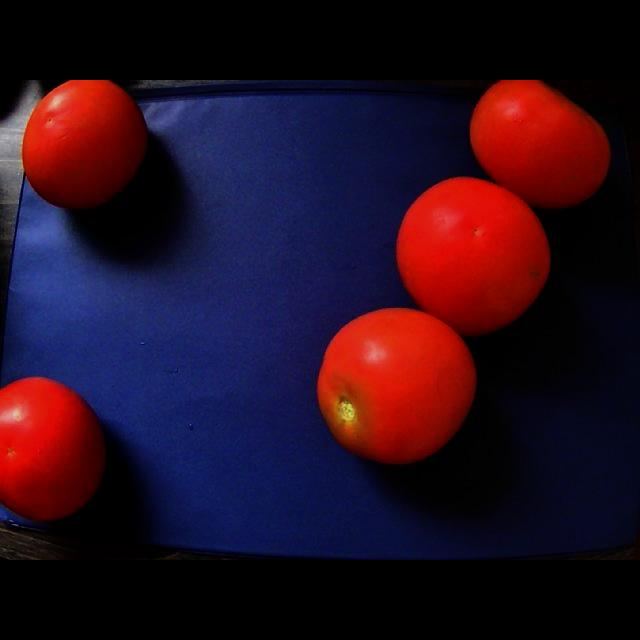tomate: (318, 308, 476, 463), (397, 177, 551, 335), (470, 80, 611, 209), (23, 80, 148, 209), (1, 377, 106, 520)
